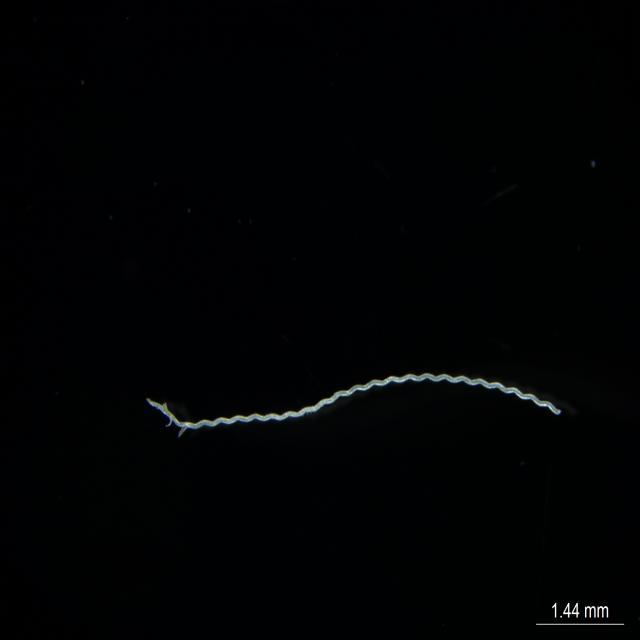fibers: (145, 365, 563, 438)
